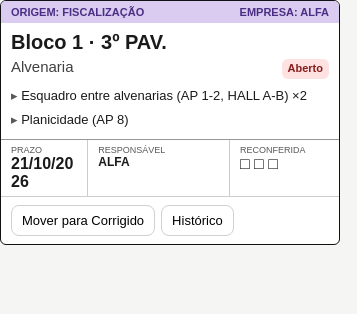
Test: <CartaoPacote/> — ações da equipe › abre o histórico a partir do card
The image size is (357, 314).
Click the button "Histórico" at (197, 220), box left=161, top=205, right=234, bottom=236
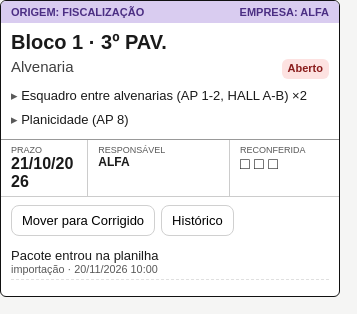
Expected: the list item "Pacote entrou na planilha importação · 20/11/2026 10:00" is shown, left=11, top=244, right=329, bottom=280
